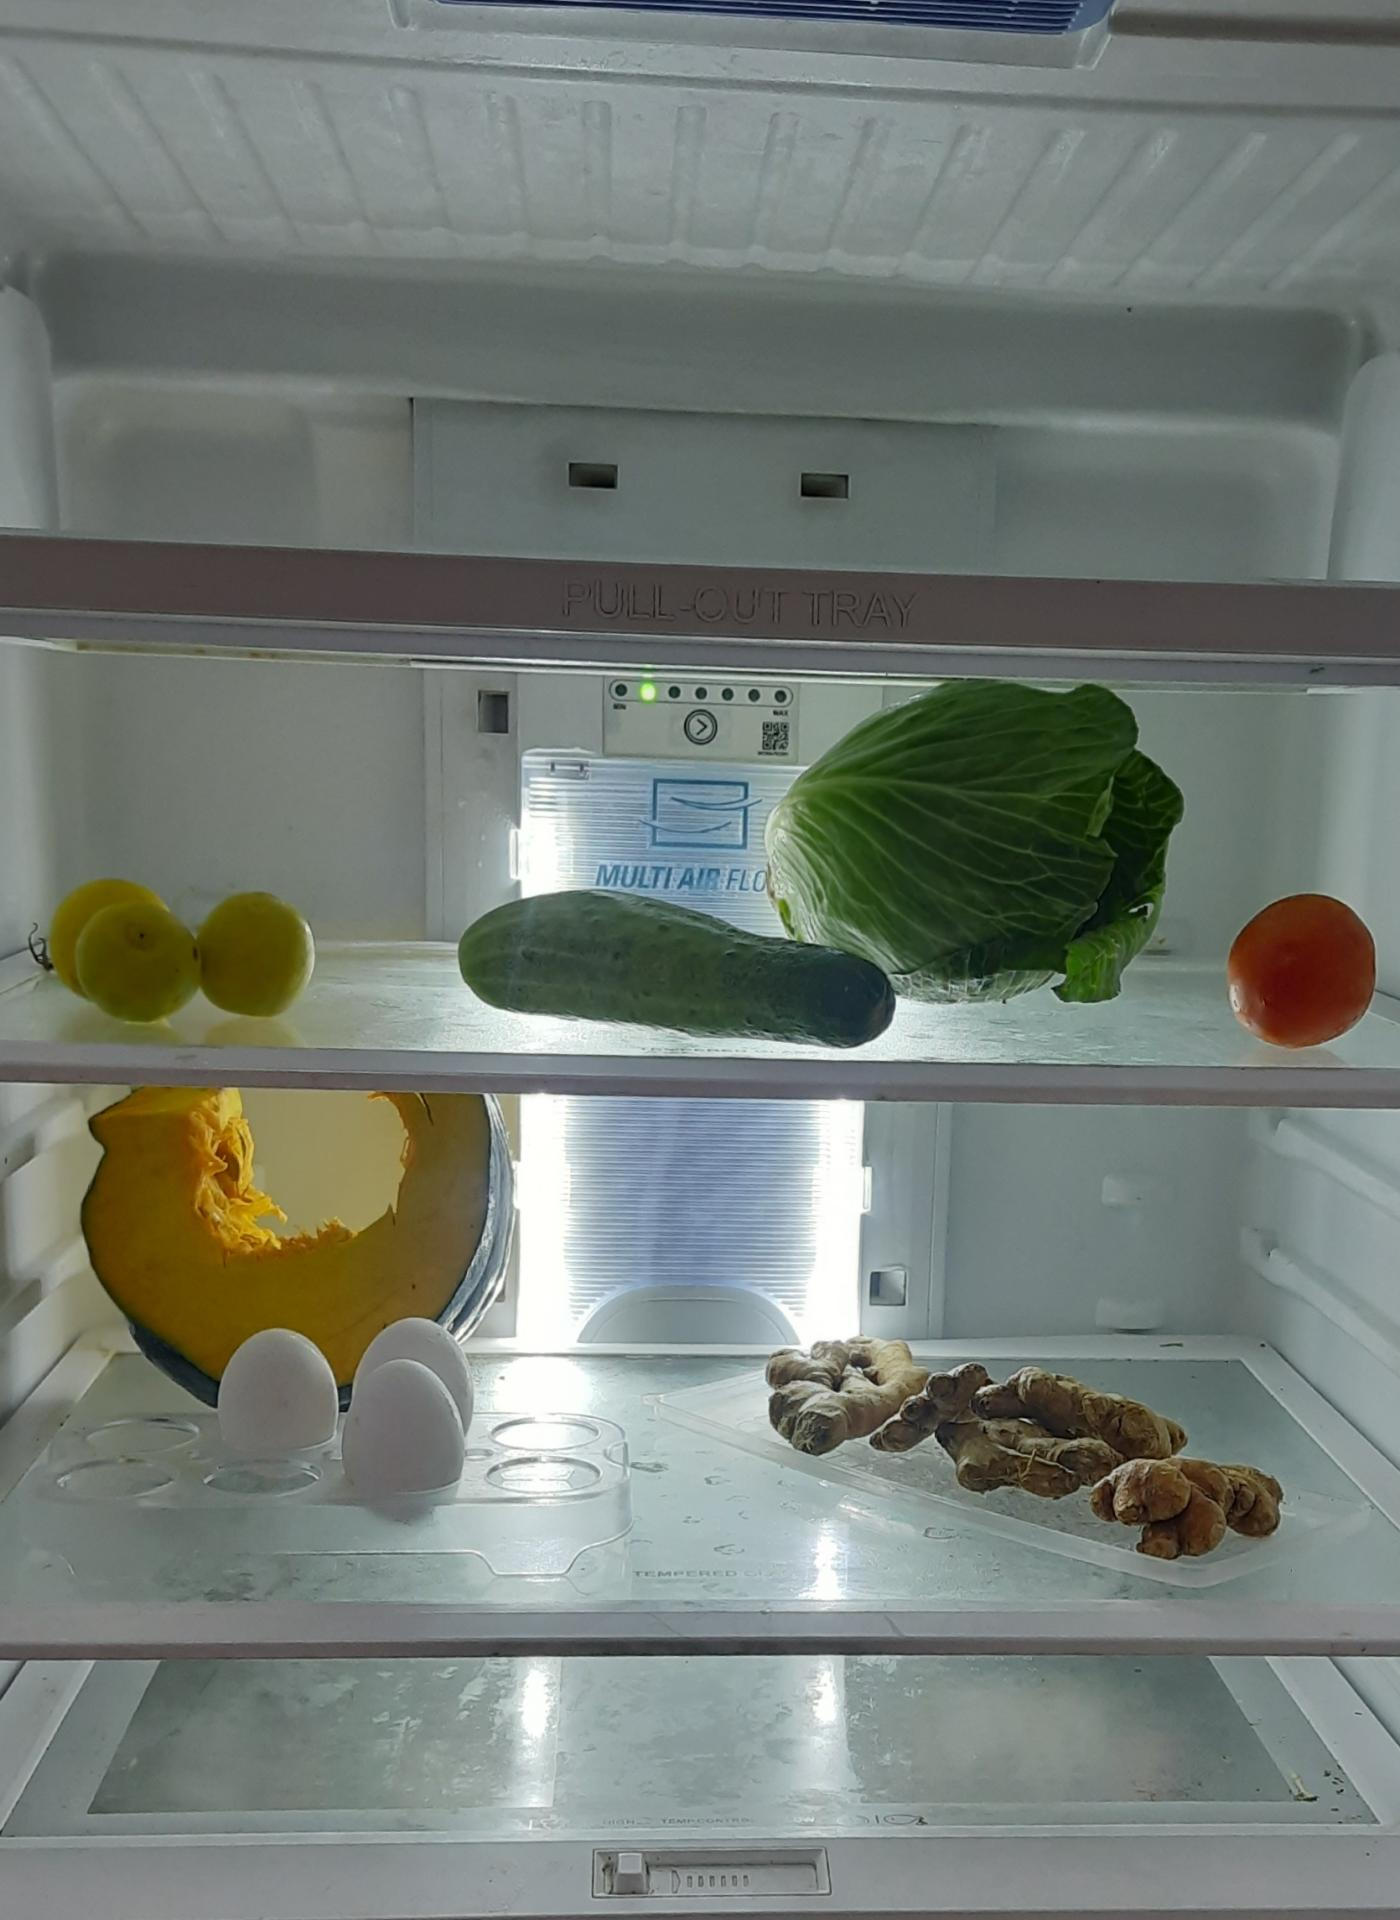cabbage: (765, 686, 1179, 1000)
cucumber: (449, 882, 893, 1045)
egg: (204, 1306, 489, 1507)
ginger: (759, 1321, 1297, 1571)
lemon: (40, 885, 318, 1026)
pumpkin: (72, 1078, 528, 1388)
tomato: (1224, 888, 1384, 1049)
